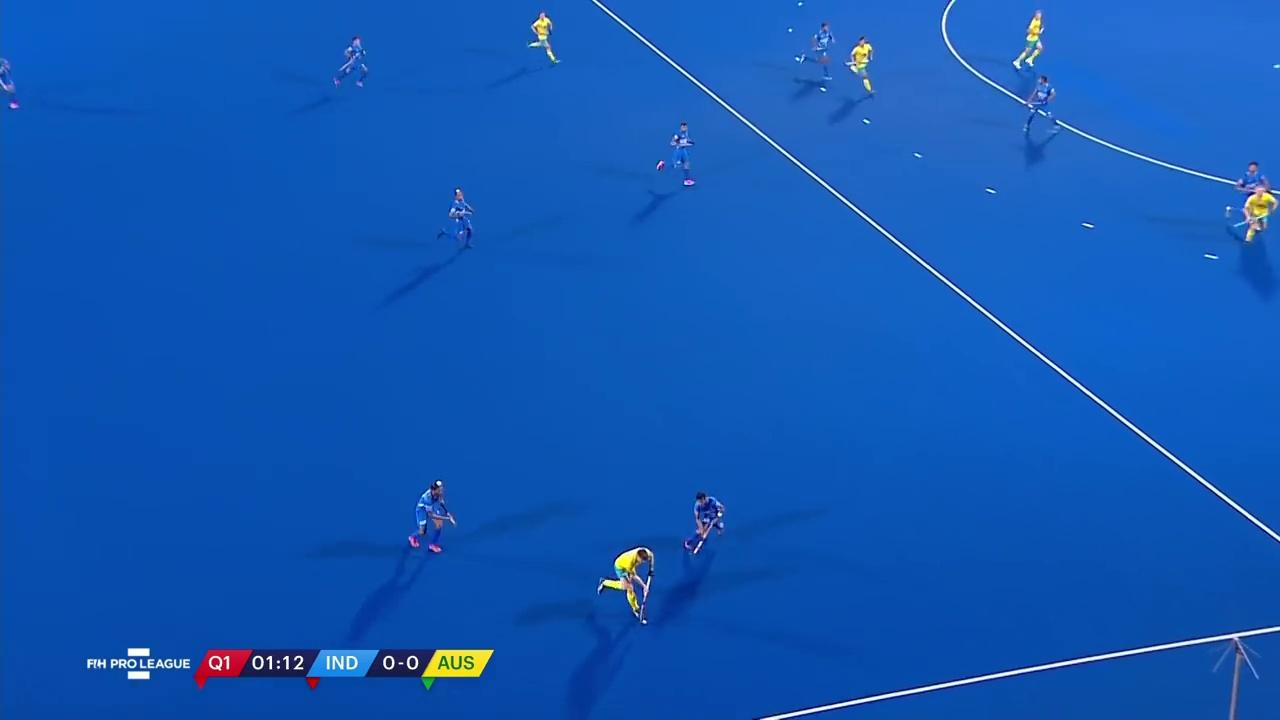ball: (638, 613, 651, 627)
